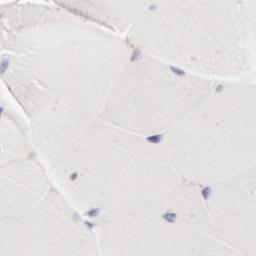nucleus: (171, 64, 185, 76), (84, 219, 99, 230), (163, 213, 178, 223), (85, 207, 99, 217), (1, 60, 10, 75), (147, 134, 162, 143), (201, 187, 211, 199), (132, 45, 141, 58), (149, 4, 158, 11), (216, 84, 223, 92), (1, 107, 4, 112)
